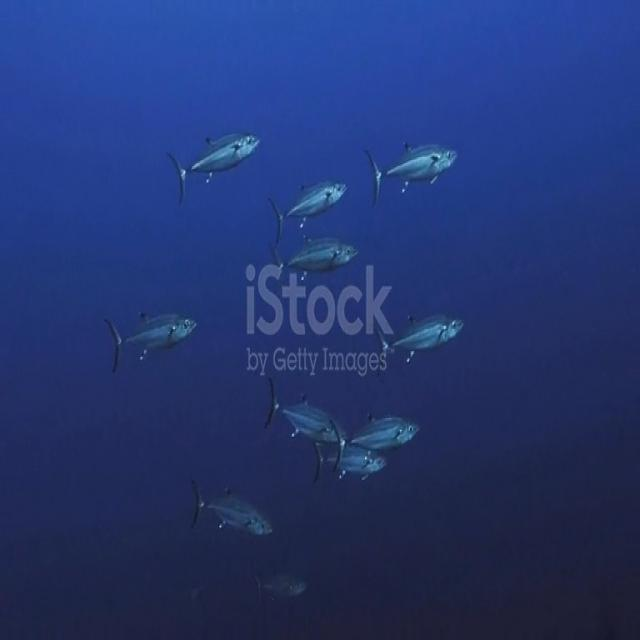fish: (166, 125, 266, 199), (366, 308, 475, 371), (104, 306, 208, 371), (314, 414, 417, 476), (188, 473, 276, 545), (367, 139, 461, 201), (263, 171, 354, 234), (266, 376, 341, 448), (272, 233, 361, 282), (307, 439, 388, 490), (244, 570, 320, 612)
